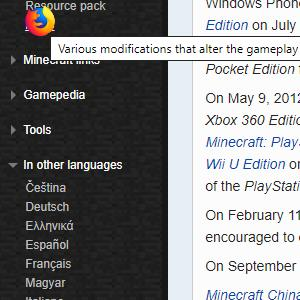firefox: (25, 5, 55, 37)
